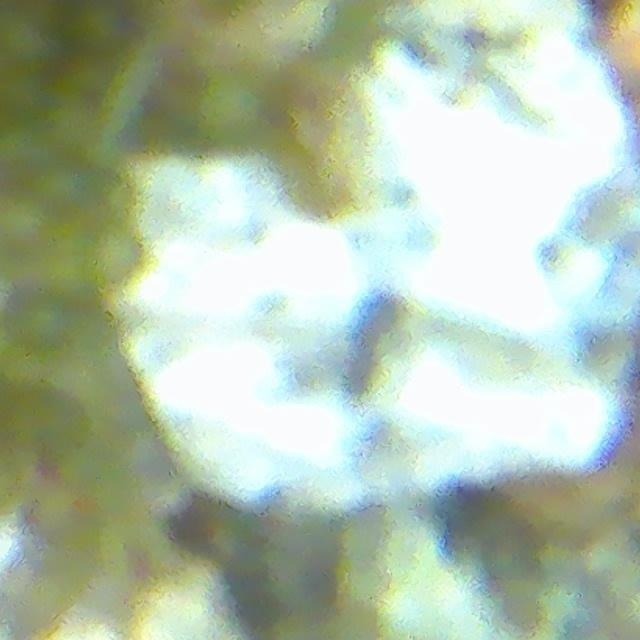SeaGrape: (193, 67, 270, 147)
